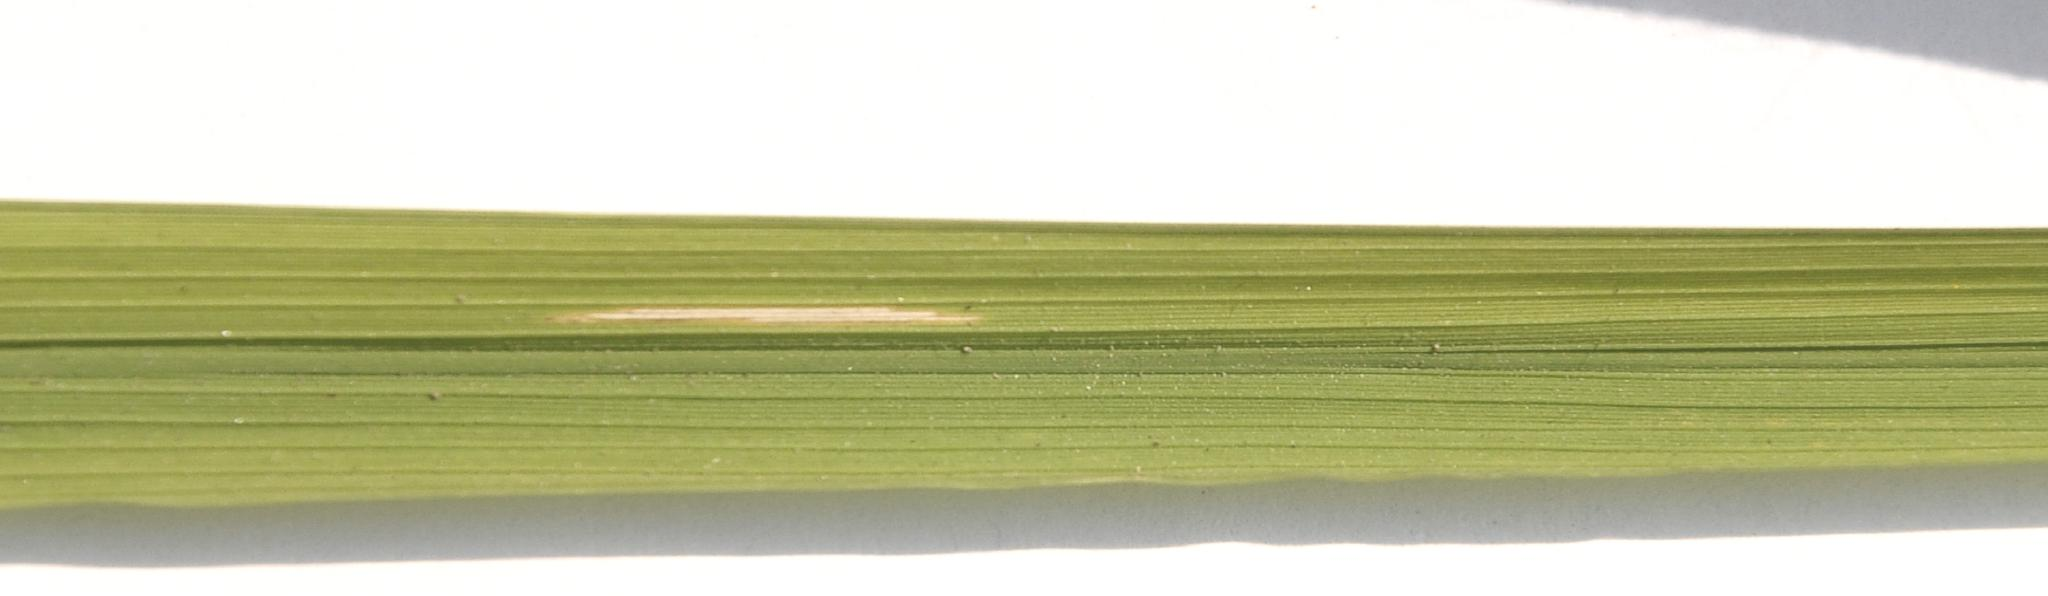2 BacterialBlight: (394, 254, 1270, 404)
